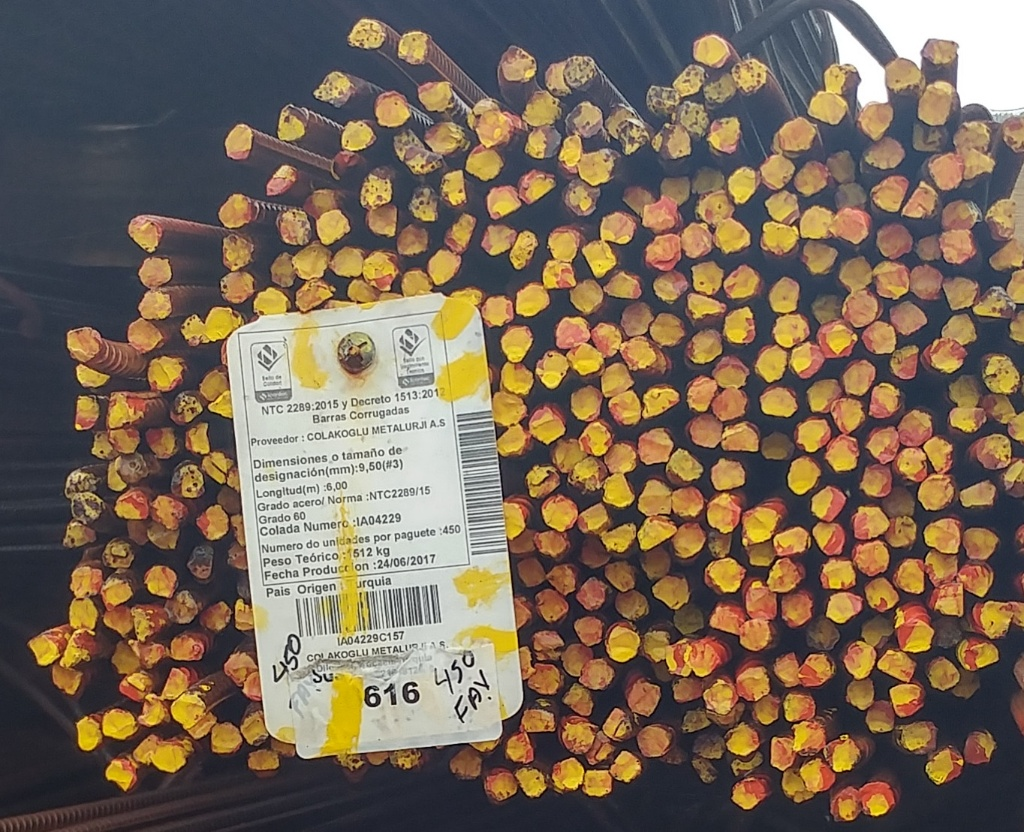dipstick: (491, 42, 538, 88), (918, 77, 959, 129), (772, 114, 822, 155), (537, 491, 581, 535), (526, 406, 571, 449), (370, 90, 416, 132), (924, 147, 966, 193), (924, 335, 971, 375), (412, 77, 460, 116), (707, 680, 748, 725), (765, 271, 805, 317), (936, 312, 987, 348), (422, 120, 471, 157), (850, 538, 893, 580), (980, 353, 1023, 395), (738, 501, 778, 546), (460, 142, 507, 180), (732, 662, 773, 705), (622, 680, 665, 721), (817, 319, 859, 360), (667, 444, 706, 488), (481, 181, 522, 222), (859, 99, 900, 140), (602, 622, 643, 663), (104, 389, 146, 429), (313, 69, 356, 108), (123, 215, 166, 254), (874, 217, 913, 260), (787, 452, 826, 495), (667, 517, 706, 560), (954, 115, 993, 158), (515, 87, 559, 125), (771, 520, 815, 558), (706, 598, 751, 635), (954, 637, 1001, 672), (216, 123, 255, 165), (895, 405, 934, 447), (925, 745, 964, 787), (546, 753, 585, 795), (973, 597, 1012, 639), (128, 603, 167, 645), (524, 124, 566, 163), (356, 167, 394, 210), (565, 98, 608, 136), (935, 228, 978, 266), (824, 734, 867, 772), (864, 175, 908, 212), (705, 558, 750, 594), (725, 776, 774, 809), (920, 515, 960, 555), (792, 161, 833, 200), (634, 478, 675, 517), (840, 290, 882, 328), (688, 32, 731, 69), (62, 327, 105, 364), (203, 299, 240, 342), (707, 114, 743, 158), (130, 258, 178, 291), (363, 247, 398, 292), (634, 724, 679, 759), (312, 206, 351, 246), (583, 240, 622, 280), (561, 54, 602, 92), (553, 312, 591, 353), (711, 385, 749, 426), (820, 435, 861, 473), (756, 150, 797, 188), (569, 275, 606, 317), (531, 350, 573, 387), (799, 238, 841, 275), (636, 197, 683, 230), (579, 151, 622, 187), (619, 336, 662, 372), (69, 390, 105, 433), (891, 618, 935, 653), (527, 528, 572, 562), (217, 232, 256, 271), (799, 650, 838, 689), (519, 169, 558, 208), (148, 493, 188, 531), (600, 518, 641, 555), (167, 462, 208, 499), (644, 234, 686, 270), (687, 327, 723, 369), (973, 433, 1015, 469), (937, 196, 980, 231), (690, 634, 724, 678), (275, 101, 308, 146), (328, 245, 367, 283), (636, 427, 675, 465), (880, 512, 919, 550), (62, 630, 100, 669), (426, 245, 463, 285), (771, 312, 812, 348), (611, 587, 652, 623), (123, 317, 164, 353), (808, 90, 850, 125), (788, 418, 830, 453), (878, 58, 921, 92), (841, 359, 879, 397), (819, 555, 857, 593), (961, 523, 999, 561), (483, 766, 521, 804), (906, 264, 944, 302), (918, 474, 955, 513), (789, 721, 828, 758), (859, 779, 898, 816), (497, 321, 533, 361), (870, 262, 910, 298), (930, 583, 966, 623), (145, 356, 185, 392), (649, 575, 690, 610), (182, 543, 217, 584), (845, 637, 879, 679), (648, 312, 685, 350), (805, 377, 842, 415), (345, 15, 382, 53), (214, 192, 253, 228), (607, 388, 643, 427), (606, 748, 642, 787), (195, 503, 231, 542), (114, 453, 153, 489), (731, 60, 771, 95), (867, 424, 902, 464), (574, 423, 615, 457), (602, 268, 644, 301), (899, 722, 941, 755), (834, 209, 871, 246), (601, 474, 637, 512), (709, 456, 747, 492), (861, 319, 897, 357), (828, 783, 864, 821), (533, 588, 572, 623), (111, 492, 150, 527), (169, 694, 208, 729), (499, 361, 539, 395), (759, 384, 799, 418), (635, 517, 676, 550), (338, 120, 383, 150), (278, 205, 310, 247), (600, 442, 642, 474), (861, 578, 903, 610), (720, 420, 763, 451), (753, 344, 789, 381), (566, 385, 603, 421), (576, 503, 613, 539), (809, 486, 846, 522), (780, 591, 817, 627), (559, 716, 595, 753), (744, 582, 779, 620), (670, 62, 708, 97), (597, 212, 636, 246), (597, 364, 636, 398), (641, 384, 680, 418), (987, 195, 1021, 234), (890, 301, 930, 334), (866, 697, 899, 737), (714, 220, 750, 256), (754, 345, 790, 381), (800, 758, 836, 794), (539, 255, 576, 290), (725, 168, 760, 205), (724, 263, 761, 298), (835, 257, 872, 292), (963, 730, 998, 767), (925, 657, 962, 692), (520, 664, 559, 697), (724, 722, 764, 754), (767, 732, 799, 772), (293, 283, 337, 312), (522, 466, 563, 497), (947, 402, 988, 433), (294, 243, 330, 278), (618, 301, 653, 337), (145, 564, 181, 599), (164, 589, 199, 625), (516, 281, 550, 318), (404, 183, 438, 220), (567, 343, 604, 377), (723, 308, 757, 345), (824, 146, 858, 183), (69, 494, 106, 528), (689, 413, 722, 451), (808, 520, 846, 553), (855, 503, 888, 541), (825, 593, 863, 626), (891, 681, 924, 719), (578, 658, 617, 690), (20, 633, 59, 665), (598, 363, 638, 394), (990, 237, 1021, 277), (688, 260, 723, 295), (674, 101, 710, 135), (603, 559, 639, 593), (547, 225, 580, 262), (686, 376, 723, 409), (491, 392, 528, 425), (804, 616, 841, 649), (943, 275, 976, 312), (897, 445, 930, 482), (449, 742, 482, 779), (822, 65, 864, 94), (759, 220, 798, 251), (521, 705, 560, 736), (135, 291, 178, 319), (72, 715, 105, 751), (169, 391, 206, 423), (739, 618, 777, 649), (767, 559, 805, 590), (101, 760, 139, 791), (262, 162, 295, 197), (671, 486, 706, 519), (576, 576, 609, 611), (222, 269, 254, 305), (100, 707, 136, 739), (150, 740, 186, 772), (897, 558, 928, 595), (169, 633, 208, 662), (857, 464, 891, 497), (100, 577, 134, 610), (222, 652, 256, 685), (50, 664, 83, 698), (395, 34, 435, 62), (925, 36, 960, 68), (579, 765, 614, 797), (513, 766, 548, 798), (653, 271, 689, 302), (800, 206, 830, 243), (759, 429, 797, 458), (58, 522, 97, 550), (69, 565, 104, 596), (871, 382, 899, 420), (102, 536, 134, 569), (210, 721, 242, 754), (645, 86, 679, 117), (496, 423, 527, 457), (197, 364, 226, 400), (672, 681, 709, 709), (243, 749, 281, 776), (479, 296, 512, 327), (64, 469, 99, 498), (533, 630, 565, 661), (575, 615, 608, 645), (784, 693, 818, 722), (397, 224, 428, 255), (482, 226, 515, 255), (846, 675, 874, 709), (833, 181, 868, 208), (66, 600, 98, 629), (697, 734, 727, 763), (203, 600, 230, 632), (257, 288, 290, 314), (657, 177, 690, 201), (402, 273, 436, 294)
